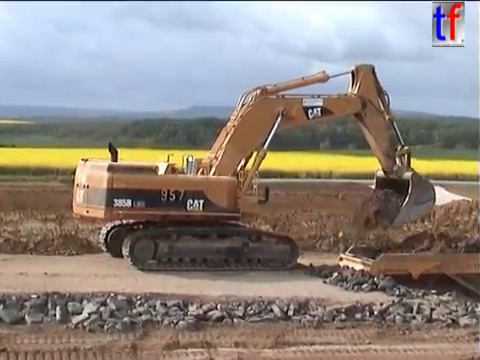excavator: (68, 60, 438, 274)
truck: (334, 238, 480, 333)
